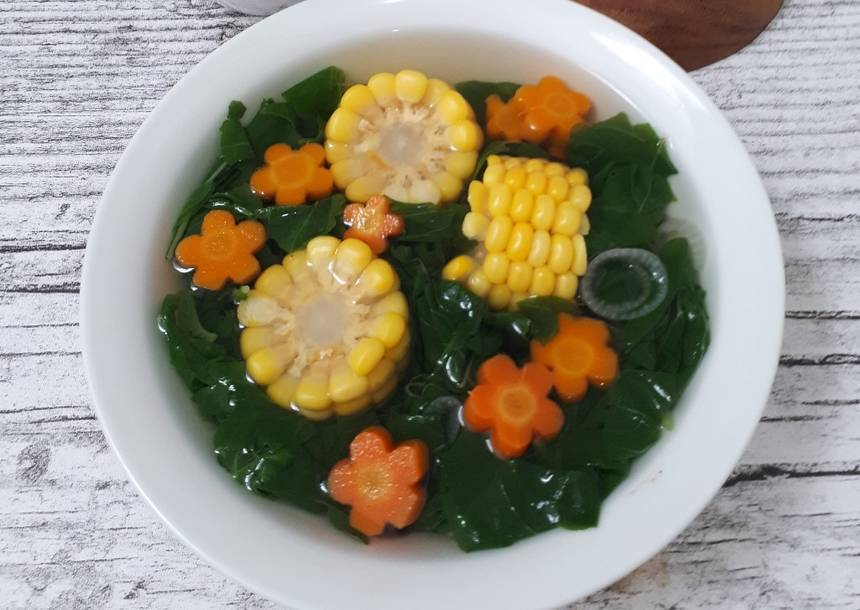Sayur Bayam: (54, 18, 760, 578)
